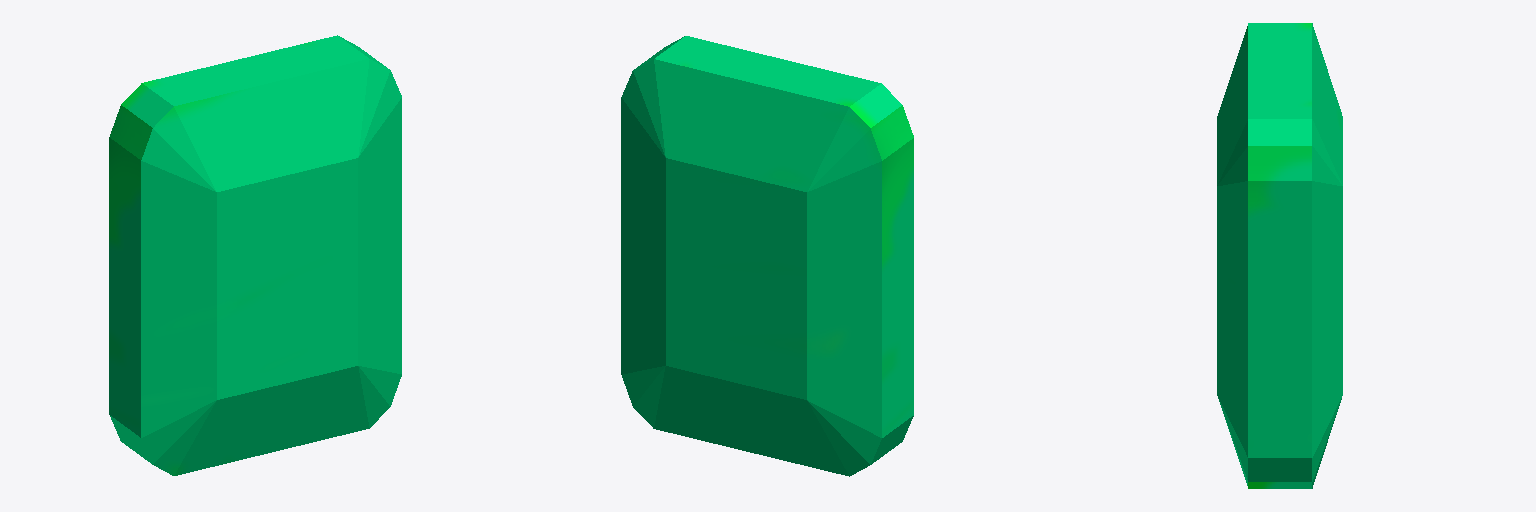
The picture shows the model from 3 angles: view 1: azimuth 30°, elevation 25°; view 2: azimuth 150°, elevation 25°; view 3: azimuth 270°, elevation 25°; orthographic projection.
Visible parts, largest first — view 1: Cube; view 2: Cube; view 3: Cube.
Boxes of the visible parts, x1=… form: Cube: x1=109, y1=35, x2=401, y2=475; Cube: x1=621, y1=36, x2=913, y2=476; Cube: x1=1217, y1=23, x2=1342, y2=488.
Bounding box in the file's own units: 1.52 × 2.06 × 0.6387.
1 materials, 1 textured.